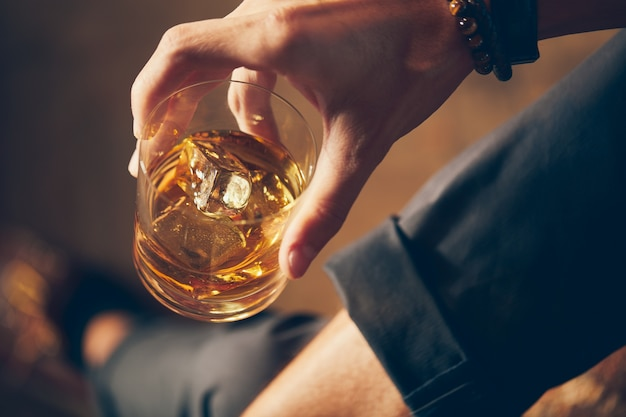alcohol: (131, 75, 321, 324)
